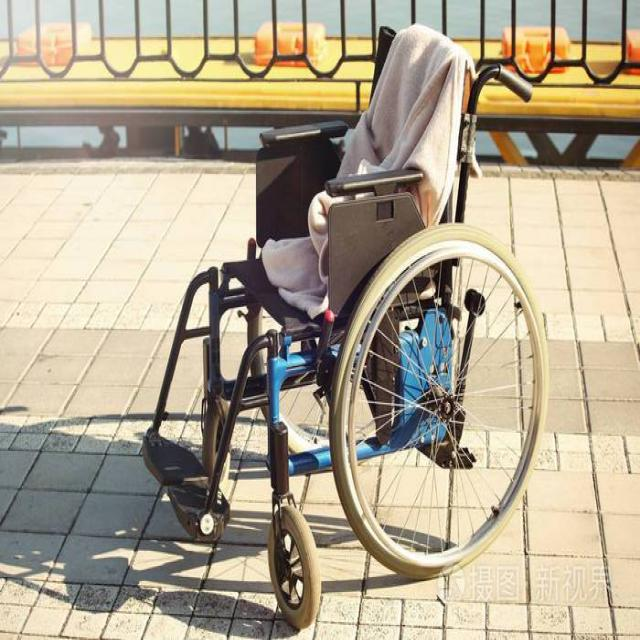wheelchairs: (117, 18, 553, 640)
